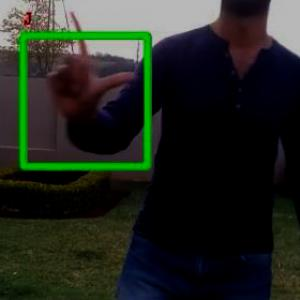land_hand: (41, 0, 140, 125)
